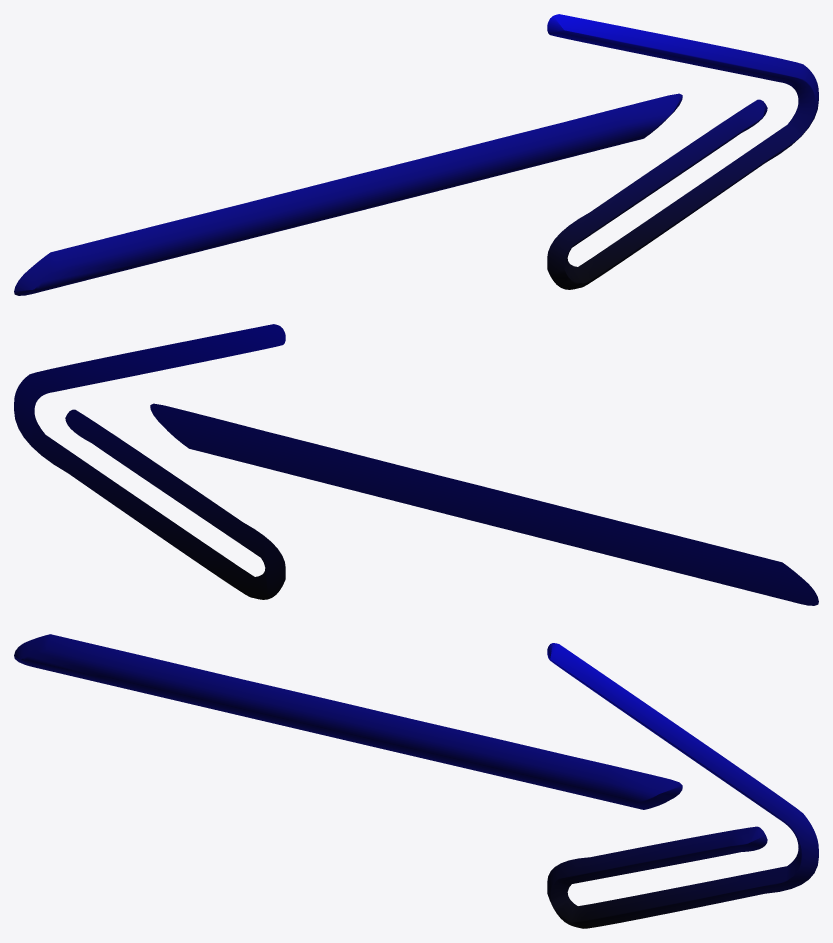
File: SM_Neon_Arrow.fbx
The picture shows the model from 3 angles, top to bottom: view 1: azimuth 30°, elevation 25°; view 2: azimuth 150°, elevation 25°; view 3: azimuth 330°, elevation 25°; orthographic projection.
Parts seen in each view (by area): view 1: FBX_OUT; view 2: FBX_OUT; view 3: FBX_OUT.
Part boxes in pixels (x1,y1,x2,y2): FBX_OUT: (14, 14, 818, 295); FBX_OUT: (14, 324, 818, 605); FBX_OUT: (14, 634, 818, 928).
Bounding box in the file's own units: 42.44 × 14.06 × 0.6561.
